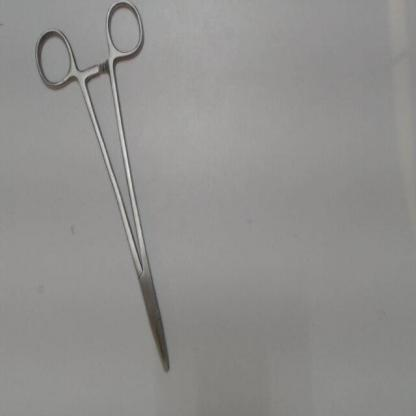8 Mayo Needle Holder: (26, 1, 179, 385)
